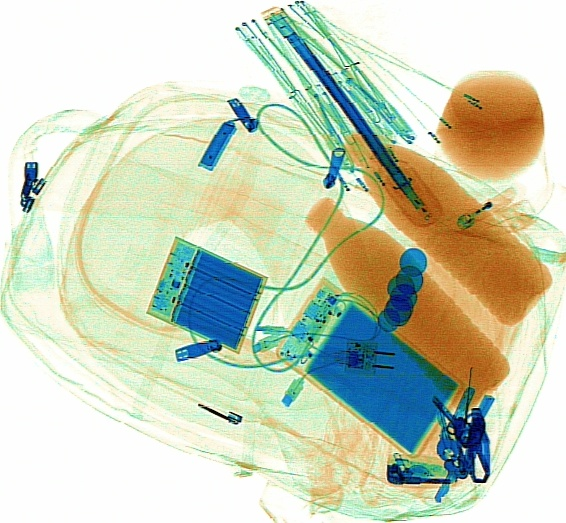lighter: (451, 179, 520, 234)
powerbank: (146, 231, 268, 354)
